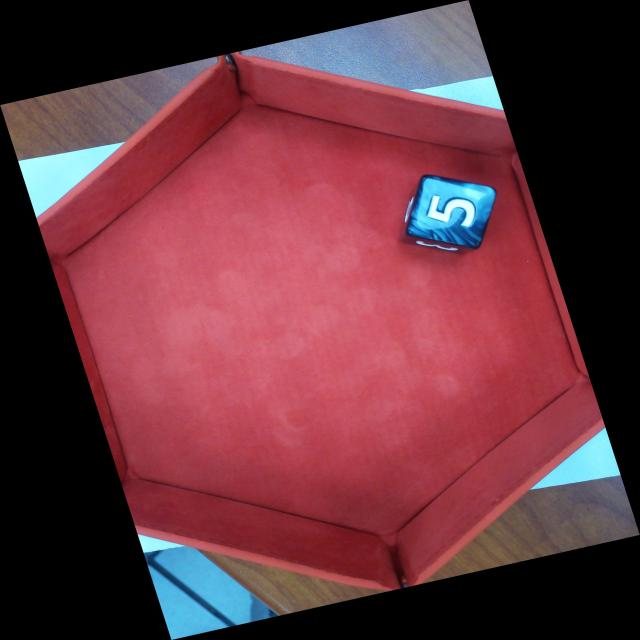dice: (405, 175, 496, 248)
